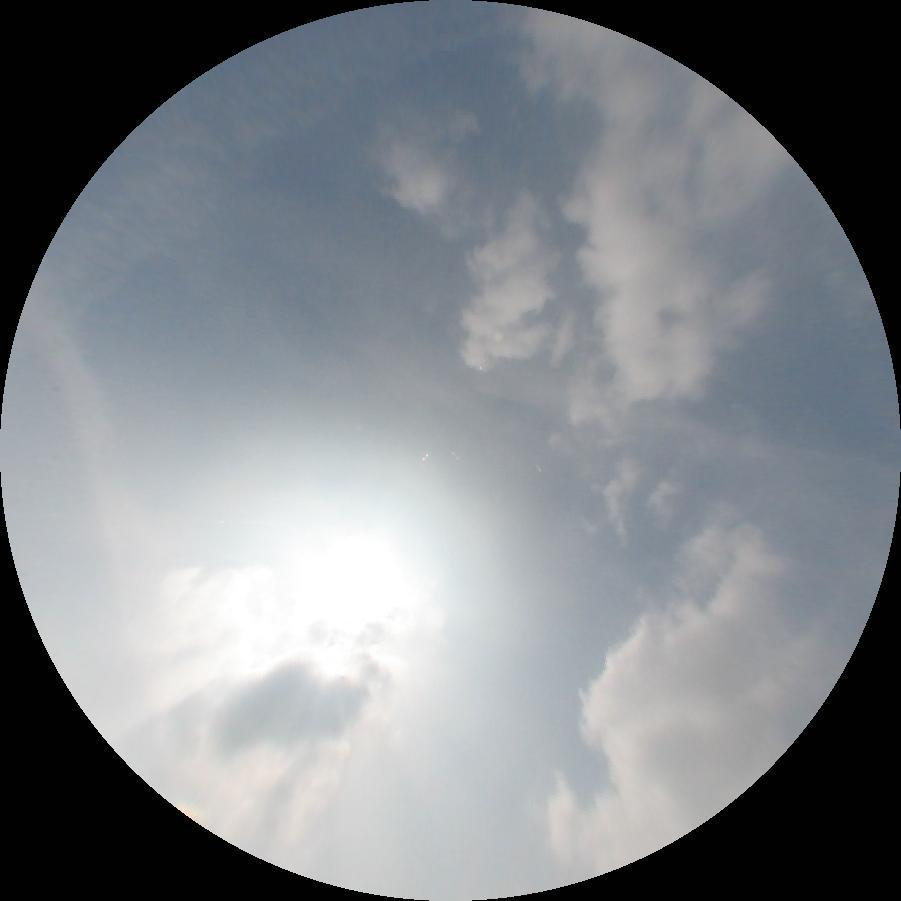sun: (293, 527, 428, 624)
